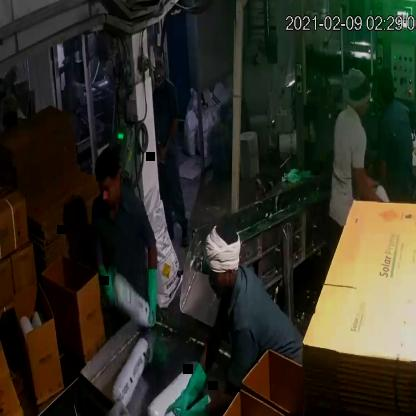glove: (165, 357, 208, 416), (92, 255, 128, 312), (144, 248, 162, 336), (171, 395, 213, 416)
no_glove: (350, 163, 387, 208), (156, 110, 184, 165)
